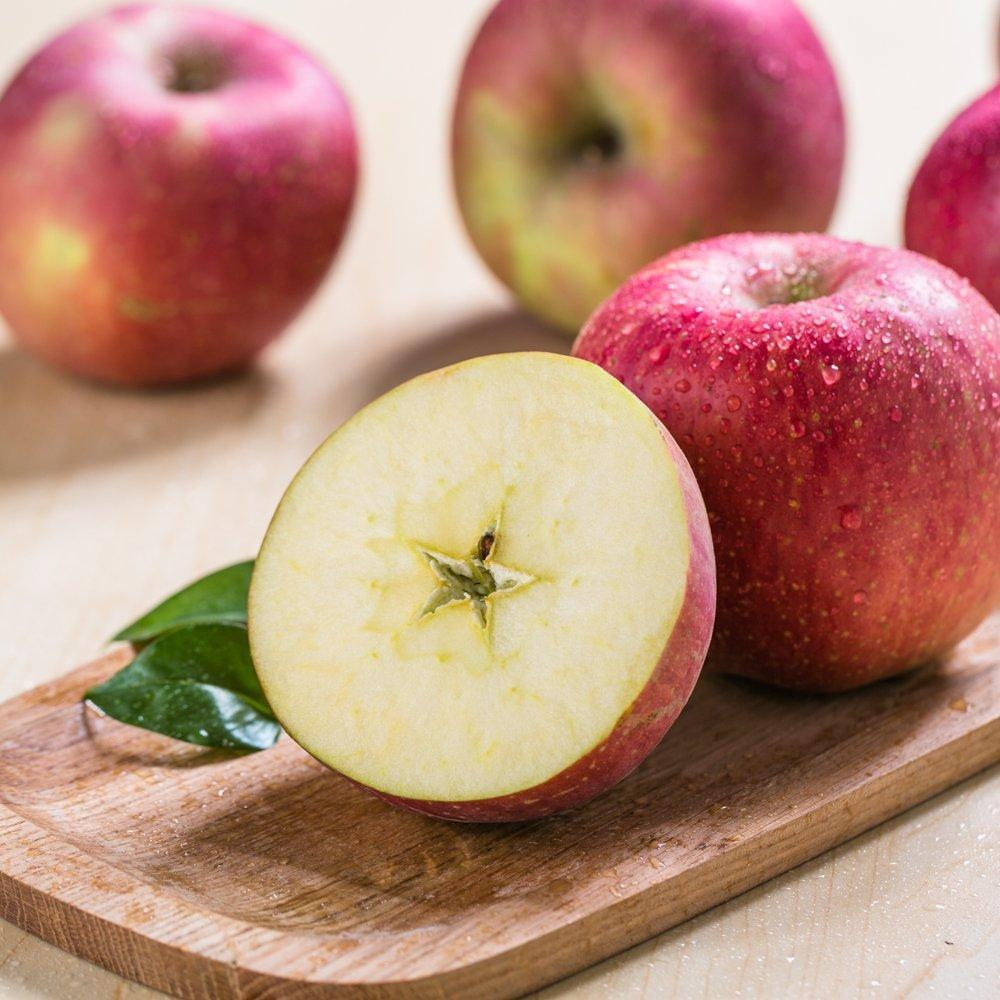apple: (563, 230, 1000, 697), (1, 6, 362, 392), (450, 2, 845, 350)
